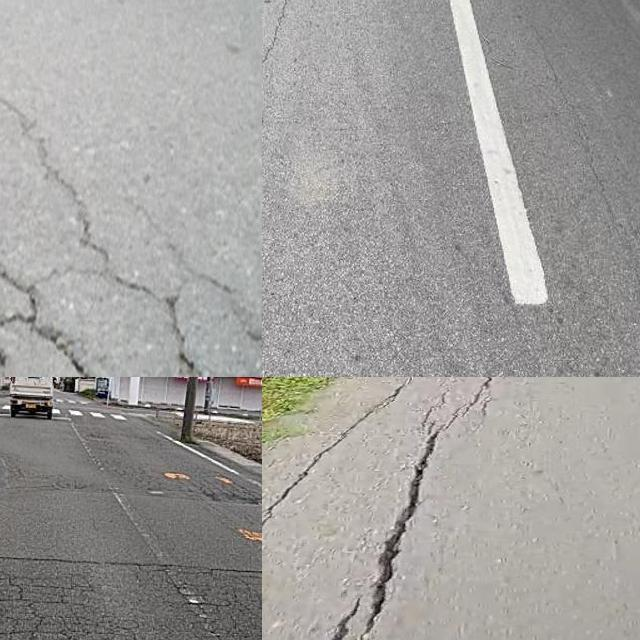Memanjang: (293, 377, 542, 640)
Retak Buaya: (0, 567, 121, 640)
